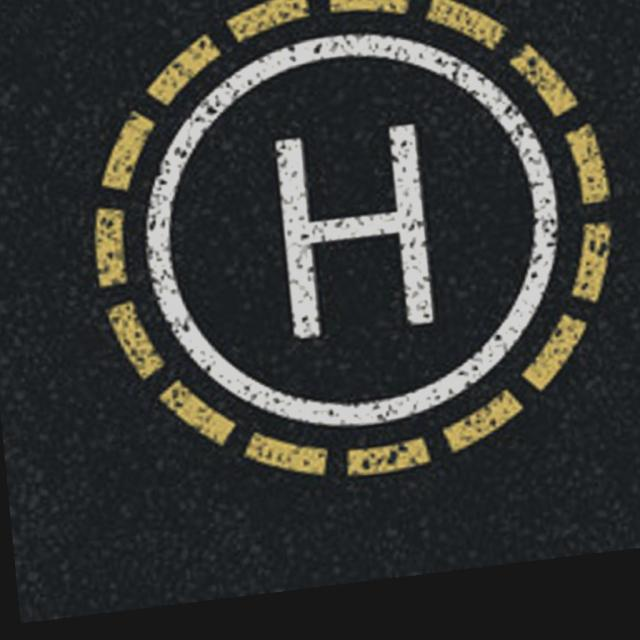helipad: (141, 26, 566, 430)
